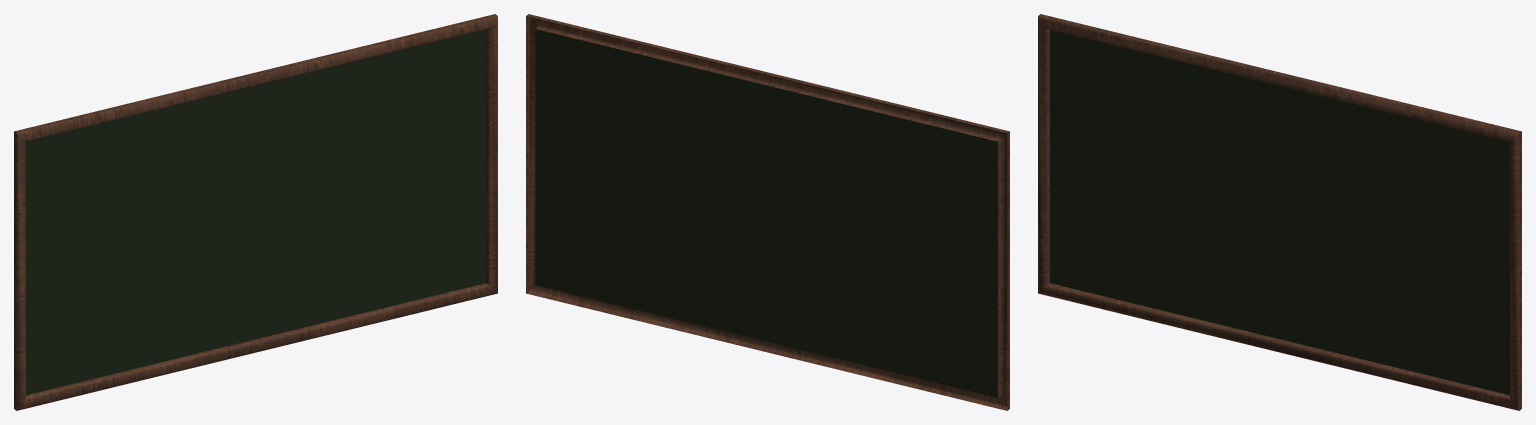
The model's file is Tablica.fbx.
The picture shows the model from 3 angles, left to right: view 1: azimuth 30°, elevation 25°; view 2: azimuth 150°, elevation 25°; view 3: azimuth 330°, elevation 25°; orthographic projection.
Visible parts, largest first — view 1: Tablica; view 2: Tablica; view 3: Tablica.
Part boxes in pixels (x1,y1,x2,y2): Tablica: [14, 14, 497, 410]; Tablica: [526, 14, 1009, 410]; Tablica: [1038, 14, 1521, 410].
Bounding box in the file's own units: 255 × 141 × 3.32.
